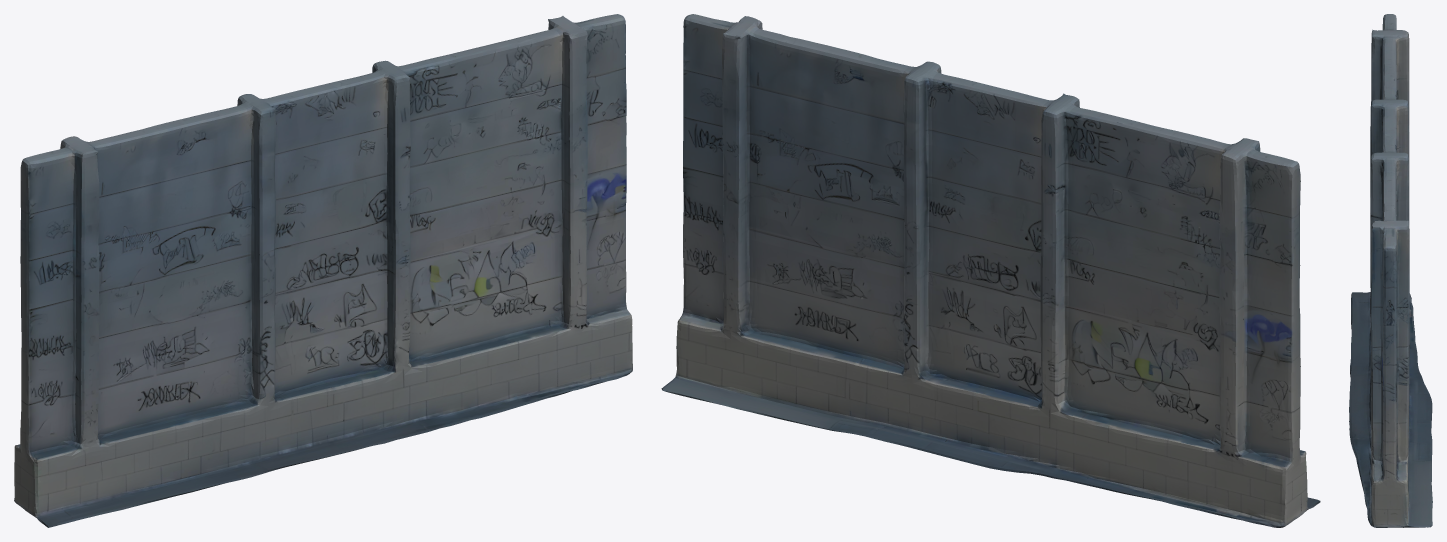
File: muro.glb
The picture shows the model from 3 angles, left to right: view 1: azimuth 30°, elevation 25°; view 2: azimuth 150°, elevation 25°; view 3: azimuth 270°, elevation 25°; orthographic projection. The views are drawn at different scales.
Visible parts, largest first — view 1: tripo_node_084974f3-58f7-4c19-a13c-7c516c946309; view 2: tripo_node_084974f3-58f7-4c19-a13c-7c516c946309; view 3: tripo_node_084974f3-58f7-4c19-a13c-7c516c946309.
Boxes of the visible parts, x1=… form: tripo_node_084974f3-58f7-4c19-a13c-7c516c946309: x1=14, y1=14, x2=632, y2=527; tripo_node_084974f3-58f7-4c19-a13c-7c516c946309: x1=661, y1=14, x2=1320, y2=527; tripo_node_084974f3-58f7-4c19-a13c-7c516c946309: x1=1349, y1=14, x2=1432, y2=527.
Bounding box in the file's own units: 0.9998 × 0.5623 × 0.1507.
1 material, 1 textured.
